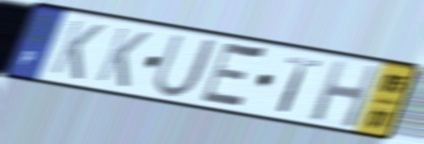E: (196, 38, 271, 113)
H: (307, 57, 382, 131)
K: (47, 17, 108, 83), (93, 24, 153, 91)
T: (274, 54, 325, 116)
U: (150, 31, 222, 100)
